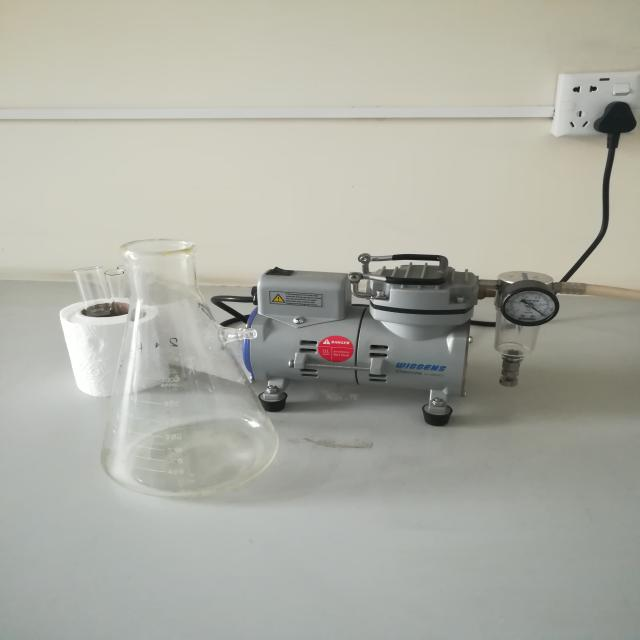Conical_Flask: (71, 215, 339, 528)
